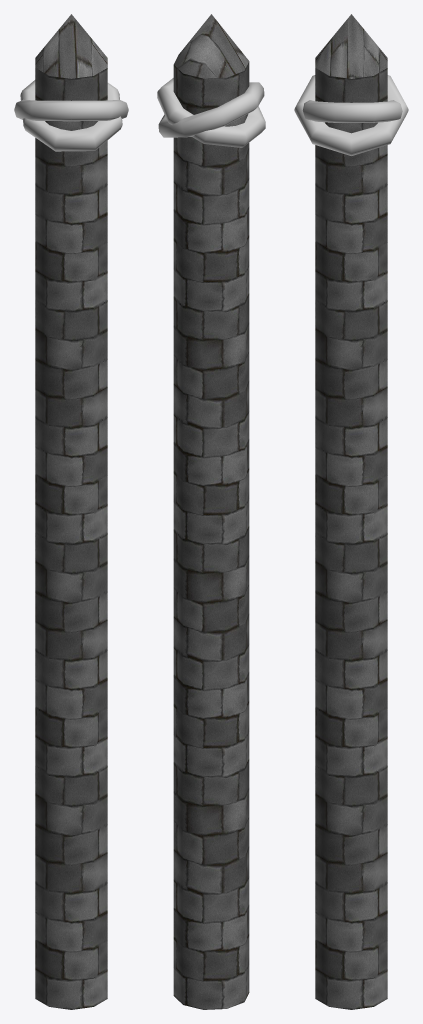
File: WoodenWallSpike.fbx
3 renders of one model, left to right at view 1: azimuth 90°, elevation 25°; view 2: azimuth 150°, elevation 25°; view 3: azimuth 270°, elevation 25°, orthographic.
Visible parts, largest first — view 1: WoodenSpike, WoodenSpikeRope; view 2: WoodenSpike, WoodenSpikeRope; view 3: WoodenSpike, WoodenSpikeRope.
Part boxes in pixels (x1,y1,x2,y2): WoodenSpike: (35,14,107,1009); WoodenSpikeRope: (14,80,128,151); WoodenSpike: (173,14,249,1009); WoodenSpikeRope: (157,78,265,147); WoodenSpike: (315,14,387,1009); WoodenSpikeRope: (294,75,408,155).
Bounding box in the file's own units: 0.7359 × 7.45 × 0.7904.
